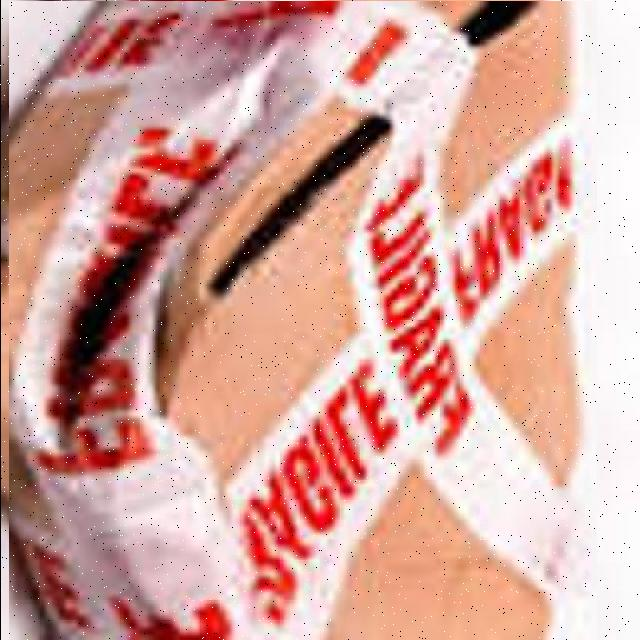defect: (8, 1, 596, 640)
